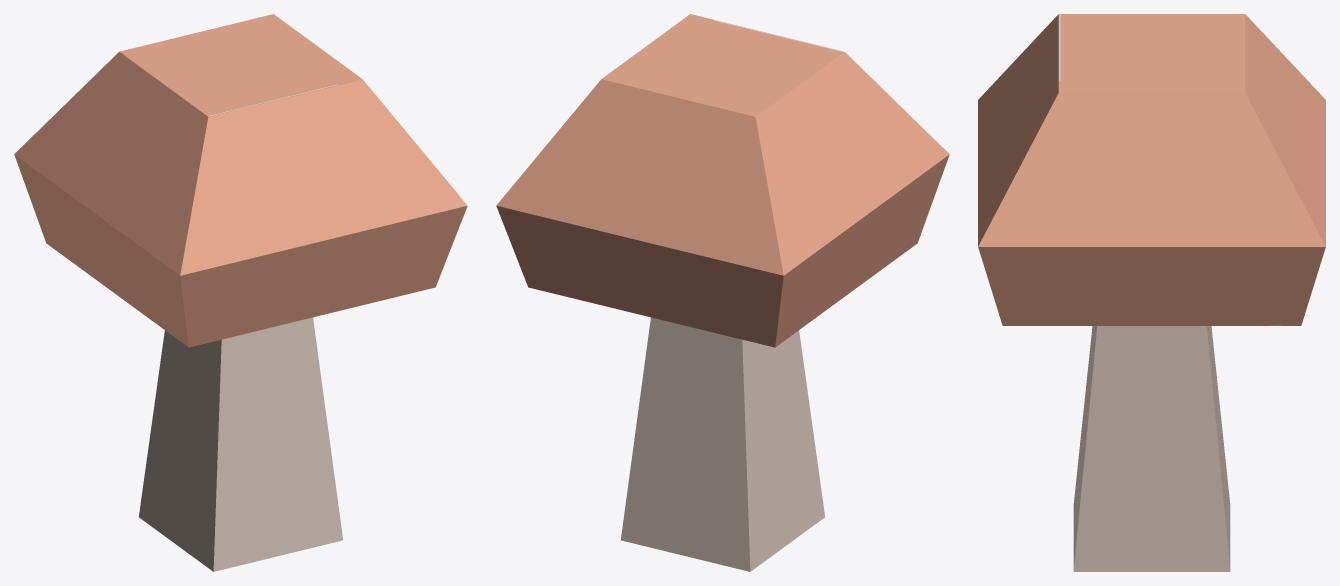
Rendered from Mushroom.fbx.
3 views of the same model, side by side, from view 1: azimuth 30°, elevation 25°; view 2: azimuth 150°, elevation 25°; view 3: azimuth 270°, elevation 25° (orthographic). The views are drawn at different scales.
Parts seen in each view (by area): view 1: Mushroom; view 2: Mushroom; view 3: Mushroom.
Part boxes in pixels (x1=…): Mushroom: x1=14, y1=14, x2=467, y2=571; Mushroom: x1=496, y1=14, x2=949, y2=571; Mushroom: x1=978, y1=14, x2=1325, y2=571.
Size of the model in its own units: 5.75 by 5.75 by 8.85.
1 material, 1 textured.
